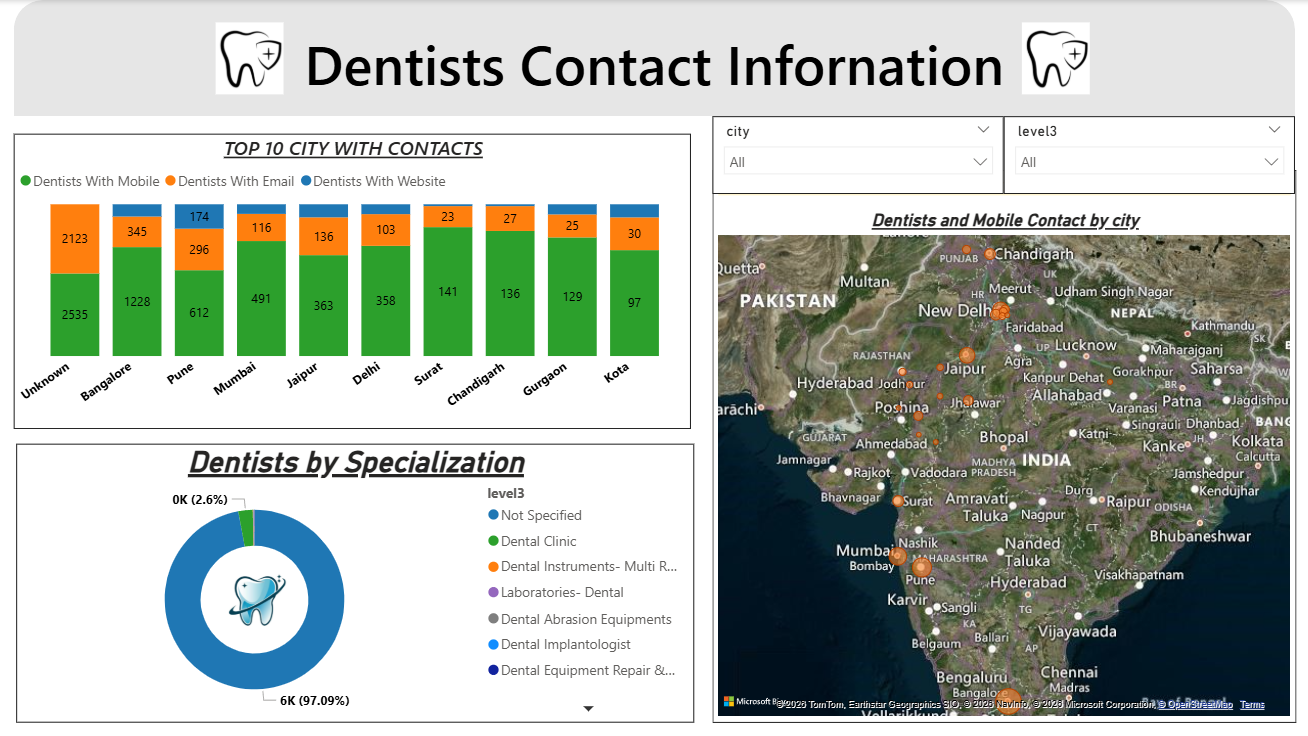

The page's visual inventory and layout, read from the dashboard file:
{"tool":"powerbi","page":{"name":"Page 2","canvas":[1280,720],"ordinal":1},"visuals":[{"type":"donutChart","title":"Dentists by Specialization","fields":{"Category":["dental_dashboard_ready.level3"],"Y":["dental_dashboard_ready.Total Dentists"]},"box":[16,434.6,663,272.8],"z":0},{"type":"hundredPercentStackedColumnChart","title":"TOP 10 CITY WITH CONTACTS","fields":{"Category":["dental_dashboard_ready.city"],"Y":["measure Table.Dentists With Mobile","measure Table.Dentists With Email","measure Table.Dentists With Website"]},"box":[13.5,130.8,662.8,288.6],"z":1000},{"type":"image","box":[183.4,547.8,138.2,78.3],"z":2000},{"type":"map","title":"Dentists and Mobile Contact  by city","fields":{"Category":["dental_dashboard_ready.city"],"Size":["measure Table.Total Dentists"]},"box":[697,166.3,571.1,540.5],"z":3000},{"type":"shape","box":[13.5,0,1253.4,113.7],"z":4000},{"type":"image","box":[200,17.3,86.4,80.2],"z":5000},{"type":"image","box":[988.9,17.3,86.4,80.2],"z":6000},{"type":"slicer","fields":{"Values":["dental_dashboard_ready.city"]},"box":[697,113.7,285,75.8],"z":7000},{"type":"slicer","fields":{"Values":["dental_dashboard_ready.level3"]},"box":[981.9,113.7,284.9,75.8],"z":8000}]}

Visuals, with their boxes in screenshot pixels (x1, y1, x2, y2), scaled from the page's 1280x720 canvas onto the 1308x736 screenshot:
"Dentists by Specialization" donutChart: l=16, t=444, r=694, b=723
"TOP 10 CITY WITH CONTACTS" hundredPercentStackedColumnChart: l=14, t=134, r=691, b=429
image: l=187, t=560, r=329, b=640
"Dentists and Mobile Contact  by city" map: l=712, t=170, r=1296, b=723
shape: l=14, t=0, r=1295, b=116
image: l=204, t=18, r=293, b=100
image: l=1011, t=18, r=1099, b=100
slicer - dental_dashboard_ready.city: l=712, t=116, r=1003, b=194
slicer - dental_dashboard_ready.level3: l=1003, t=116, r=1295, b=194
